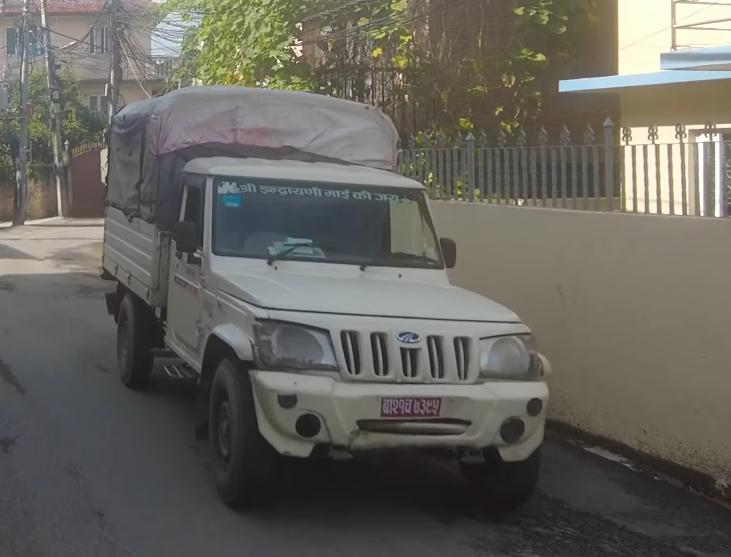transport_vehicle: (85, 81, 558, 514)
